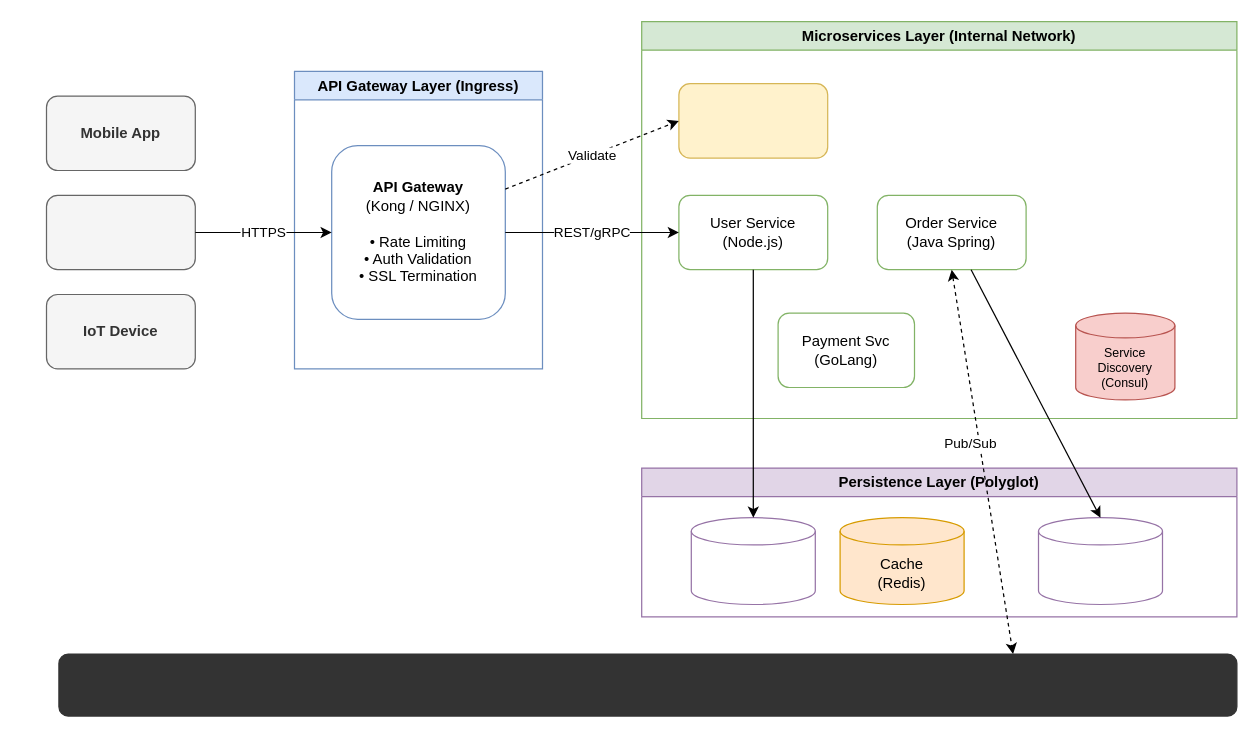
The diagram is 1259 pixels wide and 738 high, and some of its shapes have lost their labels. The shapes that lost their labels are listed below. From the top down, each one's box as (x1, y1, x2, y2) in pixels, then its label:
(678, 82, 828, 158): Auth Service (OAuth2/OIDC)
(45, 194, 195, 270): Web SPA (React.js)
(690, 516, 815, 604): User DB (MongoDB)
(1037, 516, 1162, 604): Order DB (PostgreSQL)
(58, 653, 1237, 716): Event Bus / Message Broker (Apache Kafka)
